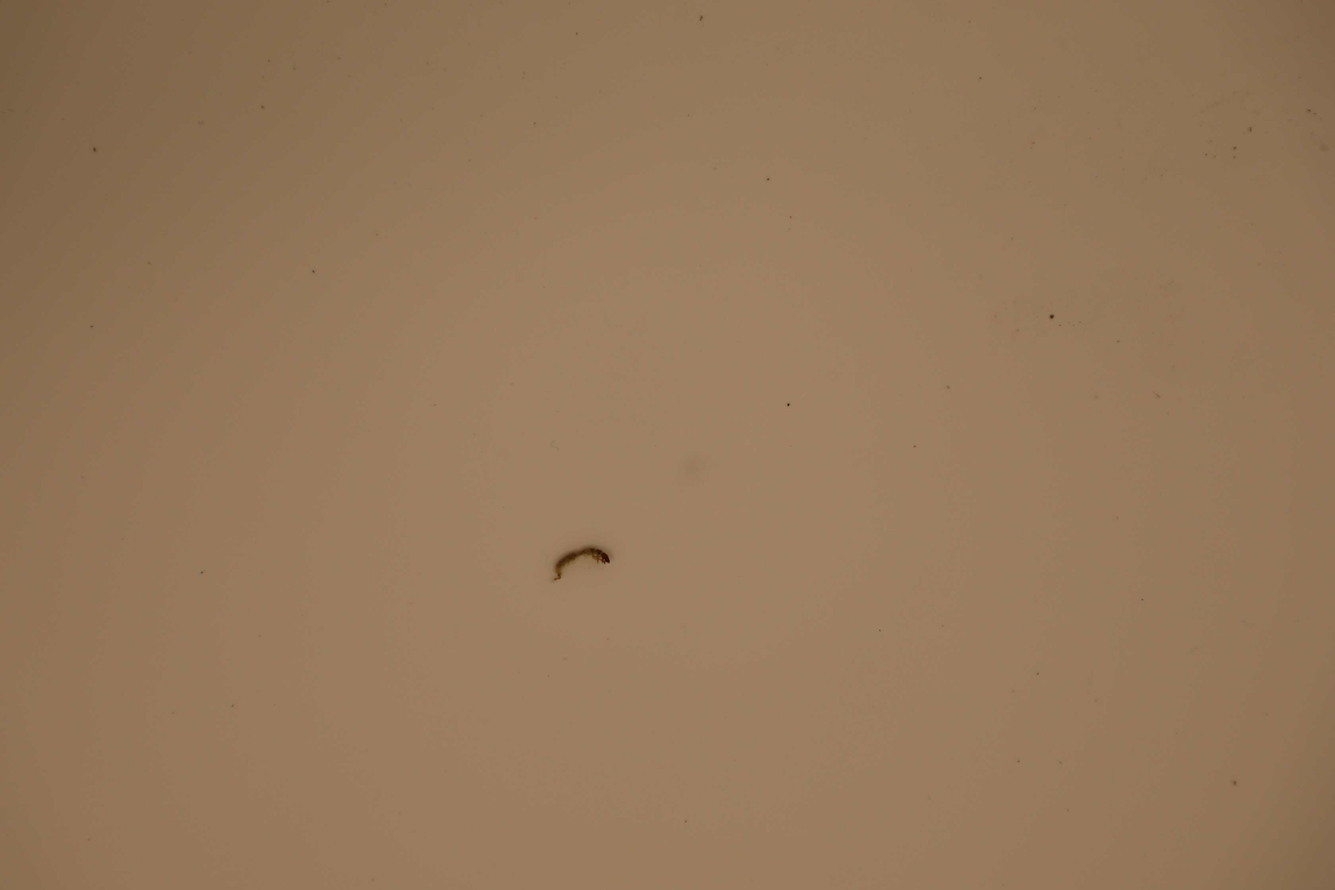Cadisfly: (543, 542, 616, 586)
